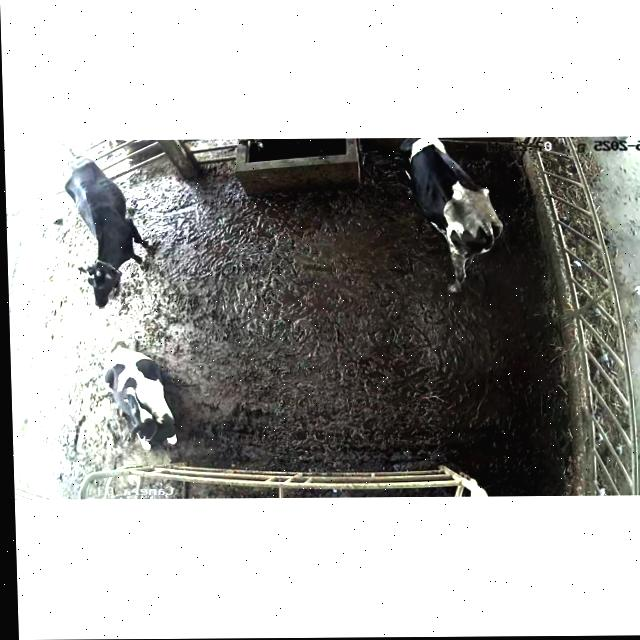stand: (395, 136, 514, 297), (64, 142, 164, 321)
